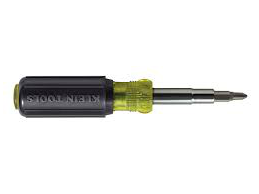Screwdriver: (10, 63, 250, 123)
